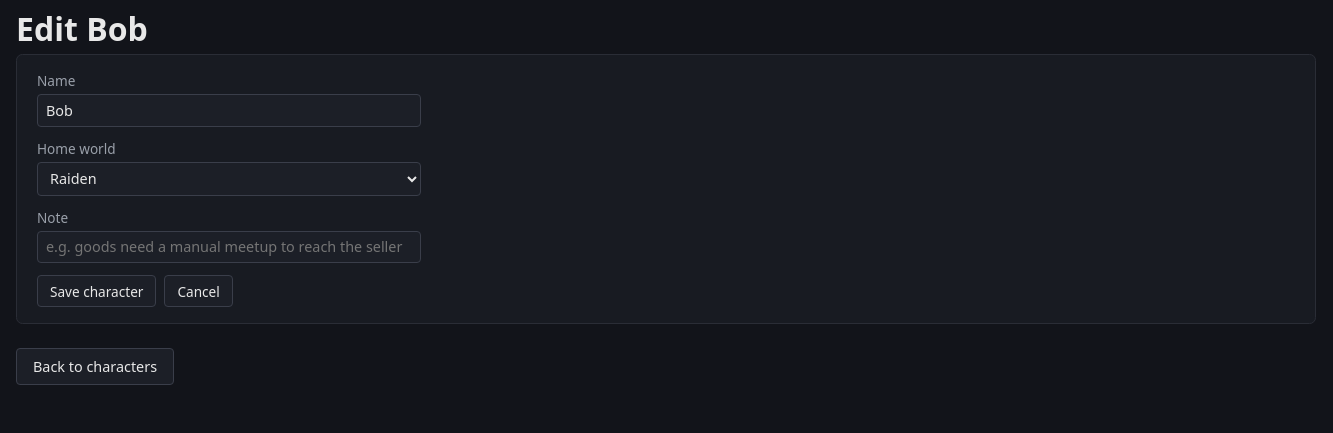
Test: EditCharacterContainer › should stay put explaining details the roster wouldn't take, saving nothing
Replace the text in the field labelled "Name" with "Alice". click: (229, 110)
box: [37,94,421,127]
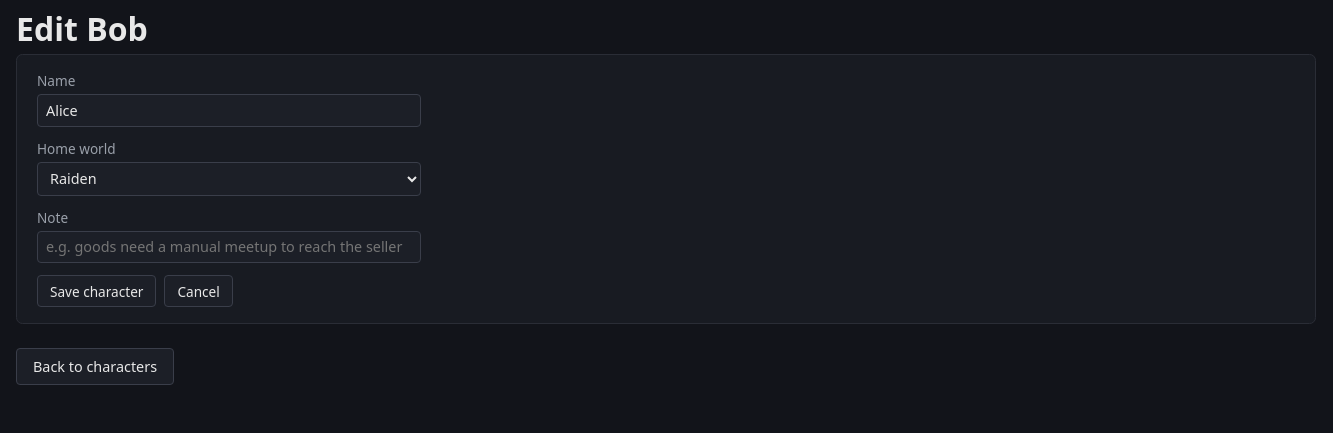
Click the button "Save character". click: (97, 291)
box: [37,275,156,307]
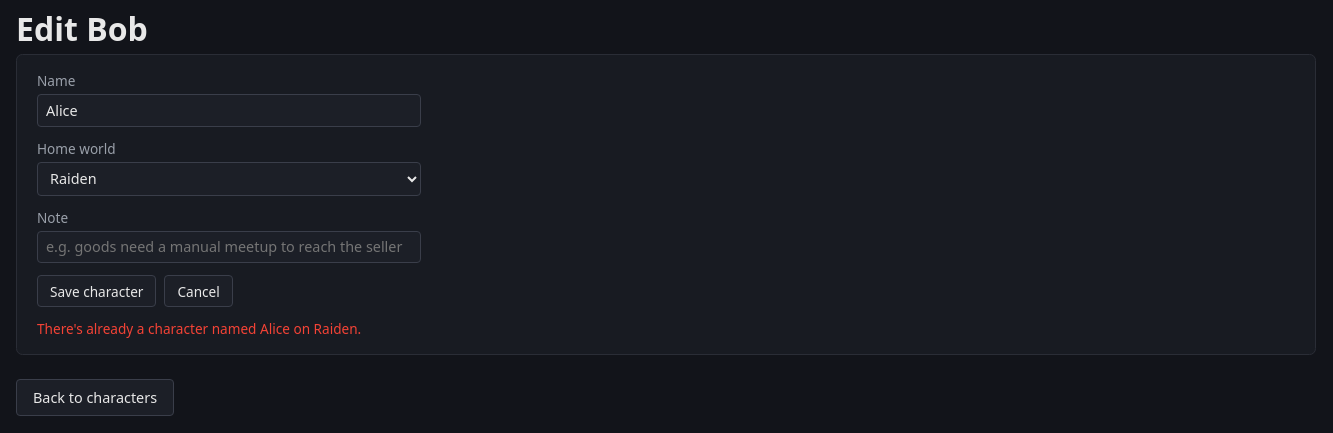
Expected: the message reads "There's already a character named Alice on Raiden.", [37,319,361,338]
